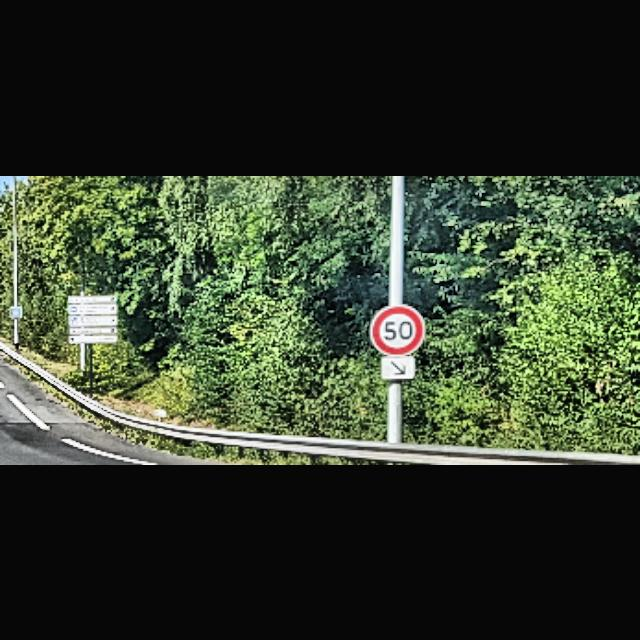speed_50: (370, 304, 426, 356)
